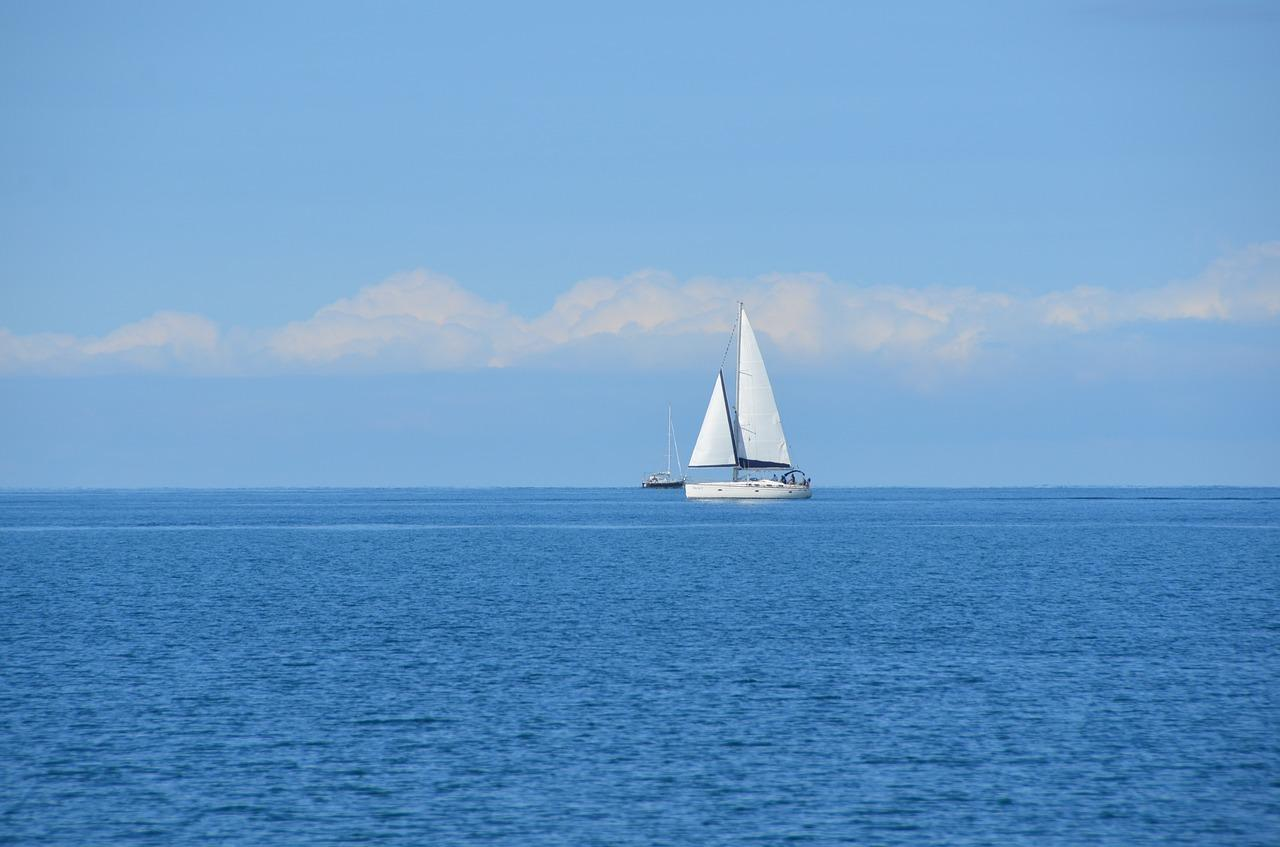Ship: (683, 306, 817, 505), (643, 406, 685, 489)
